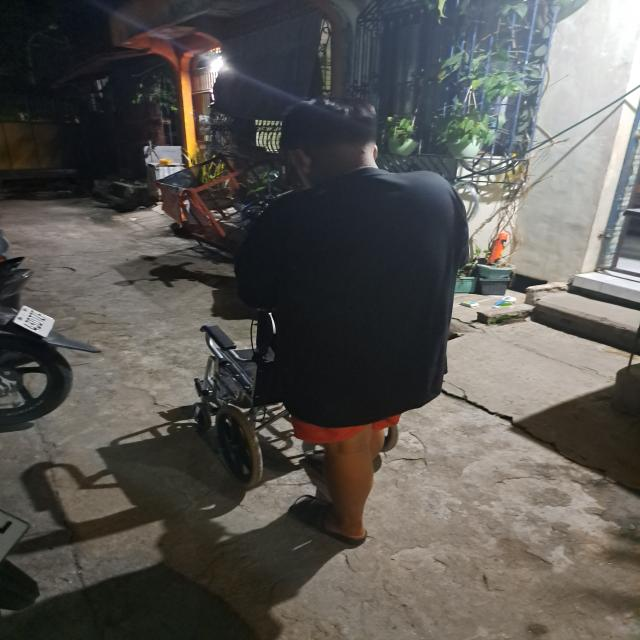wheelchairs: (183, 314, 418, 489)
